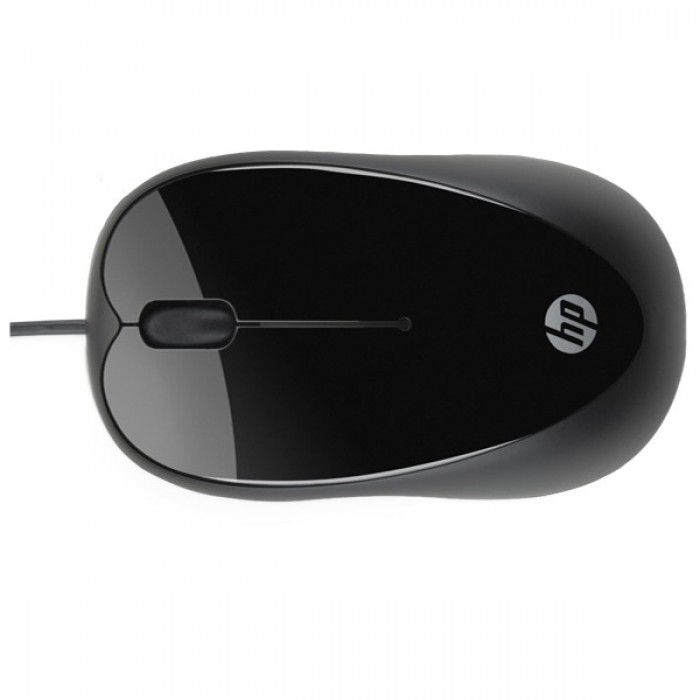hp-mouse-X1000: (1, 142, 683, 526)
